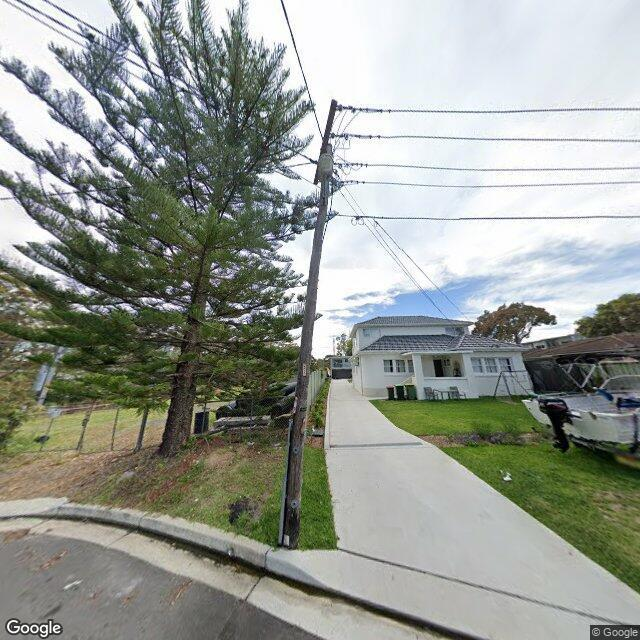crossarm: (314, 100, 339, 184)
streetlight: (316, 154, 334, 205)
timber-pole: (281, 142, 334, 548), (37, 346, 64, 405)
